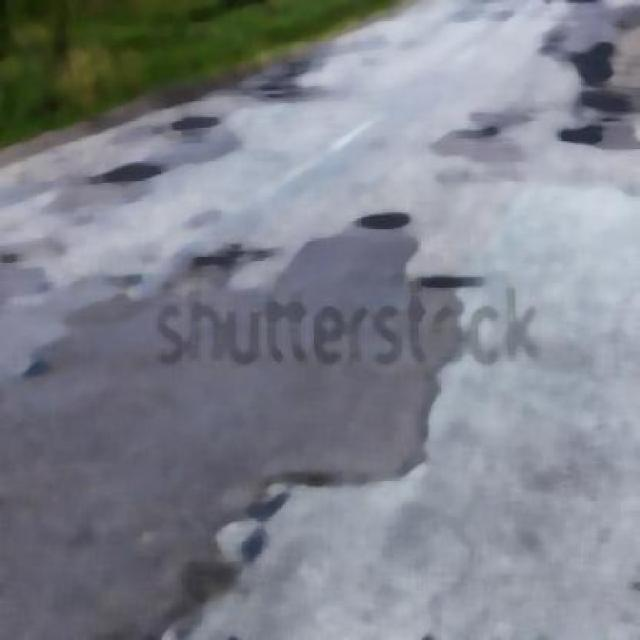Pothole: (546, 37, 639, 152), (96, 154, 186, 215), (252, 65, 328, 117), (356, 196, 427, 238), (163, 115, 228, 142)
